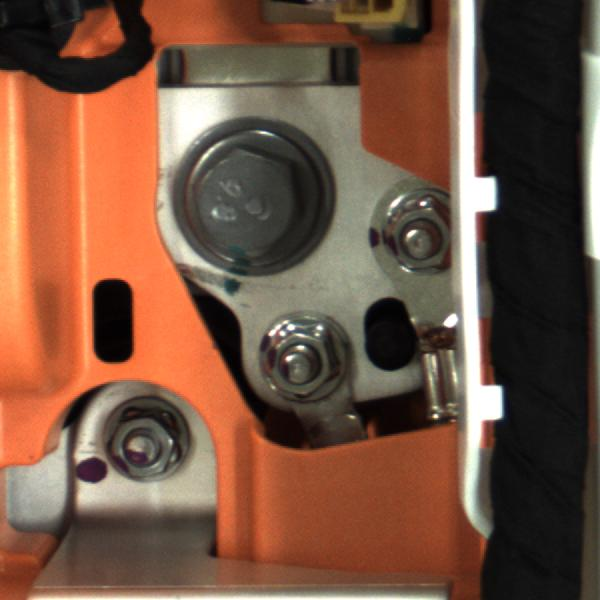nut_b: (146, 117, 349, 273)
screw_s: (102, 401, 192, 487), (259, 315, 341, 406), (379, 190, 456, 279)
